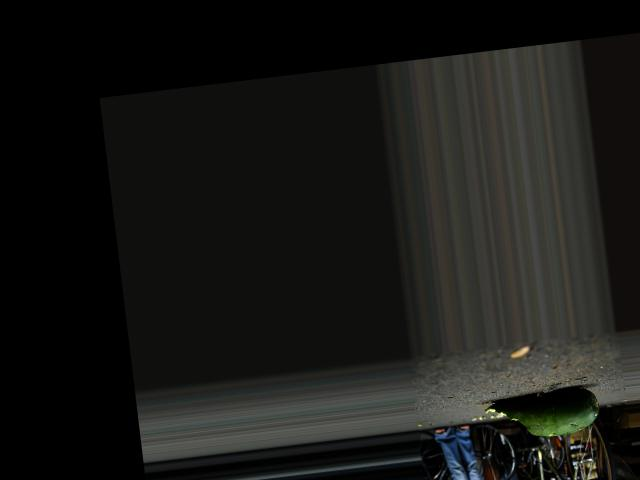cucumber: (481, 385, 601, 443)
